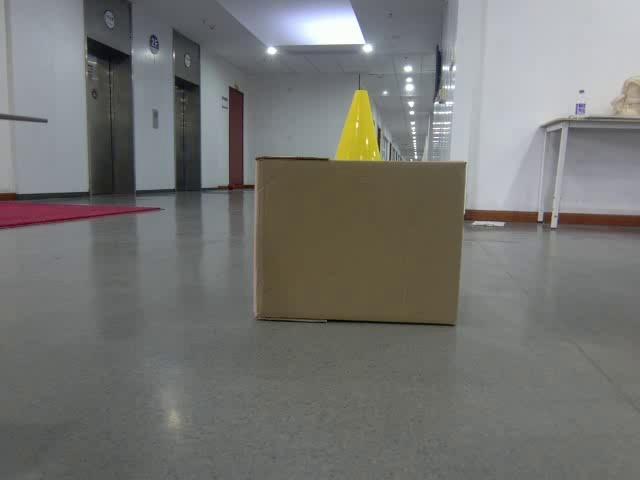yellow_barrel: (332, 90, 387, 161)
